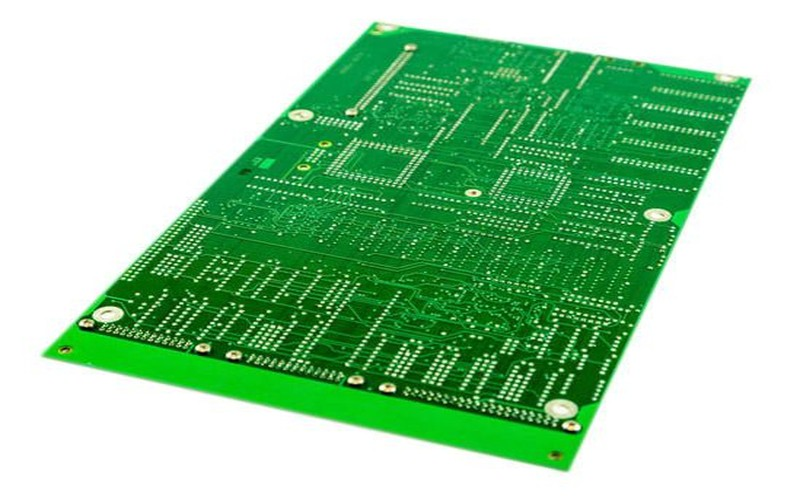Cirtuit-Board: (26, 8, 754, 482)
